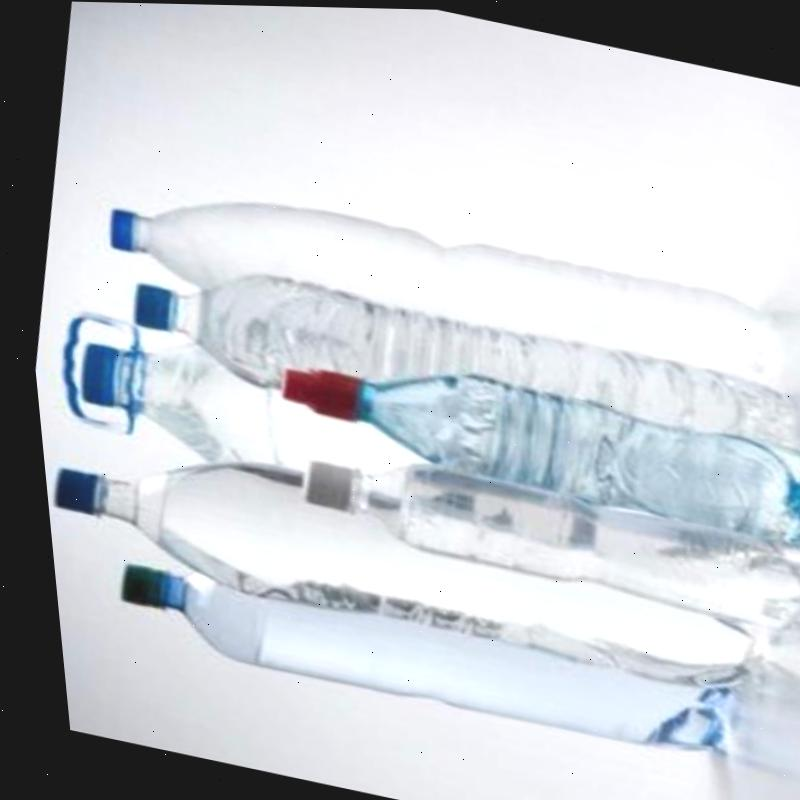botella: (32, 424, 758, 696), (110, 246, 800, 502), (92, 165, 777, 407), (97, 554, 735, 771), (261, 337, 800, 542), (278, 433, 800, 638), (54, 319, 447, 509)
